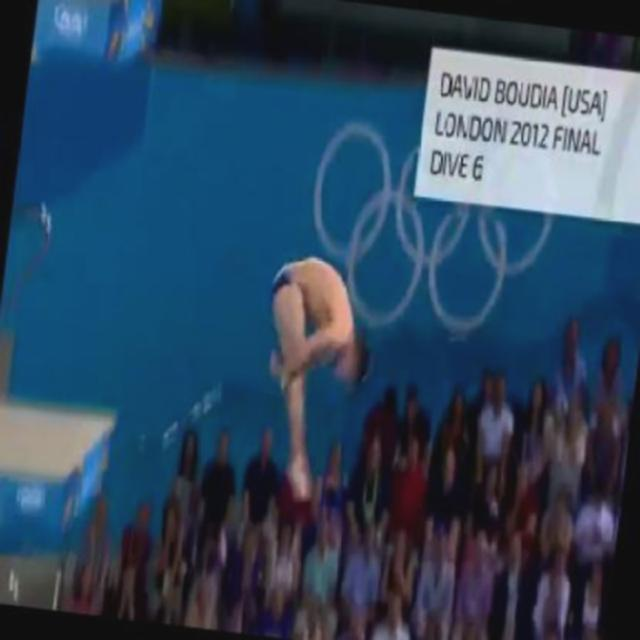non-fight: (249, 241, 386, 502)
